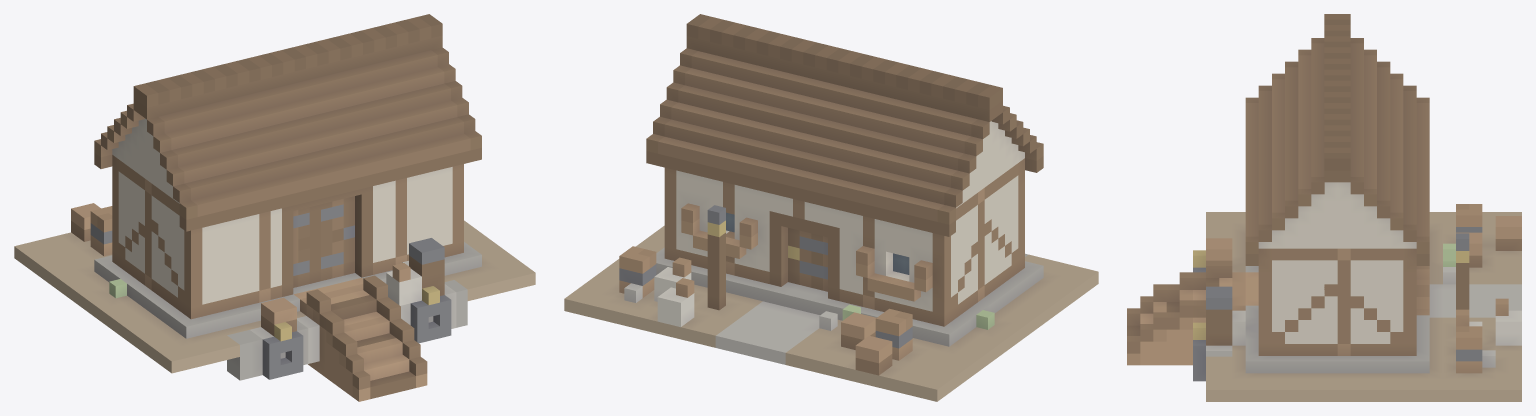
Rendered from depot.l1.glb.
3 renders of one model, left to right at view 1: azimuth 30°, elevation 25°; view 2: azimuth 150°, elevation 25°; view 3: azimuth 270°, elevation 25°, orthographic. The views are drawn at different scales.
Visible parts, largest first — view 1: depot; view 2: depot; view 3: depot.
Boxes of the visible parts, box(x1,y1,x2,y2) form: depot: box(14, 14, 535, 401); depot: box(564, 14, 1098, 401); depot: box(1127, 14, 1521, 401).
Bounding box in the file's own units: 4 × 2.75 × 3.75.
